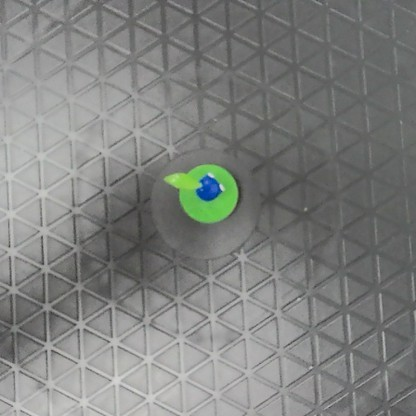leafairy: (158, 160, 240, 226)
